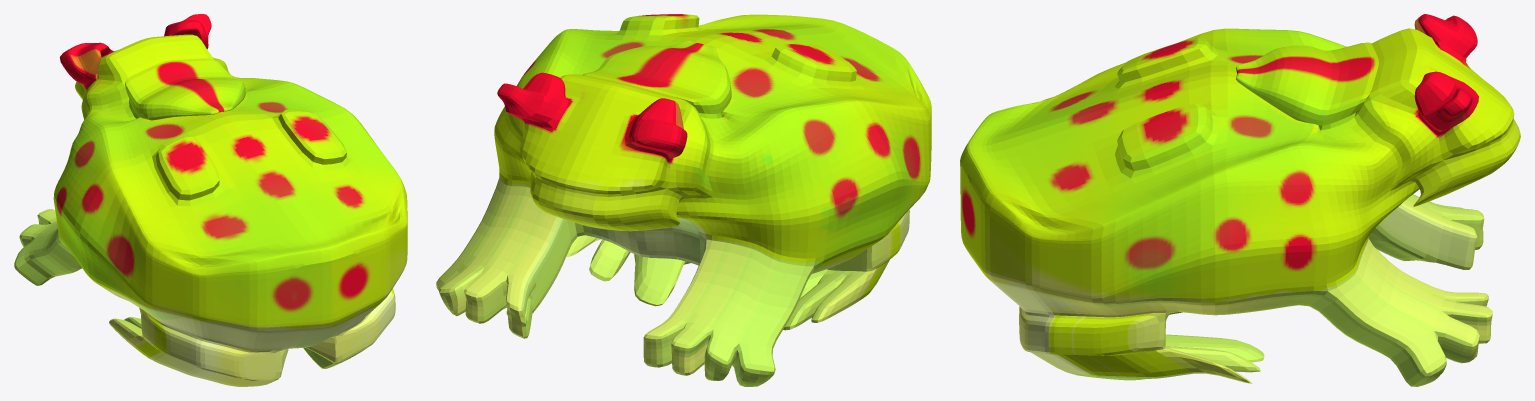
File: Frog1.fbx
The picture shows the model from 3 angles, left to right: view 1: azimuth 30°, elevation 25°; view 2: azimuth 150°, elevation 25°; view 3: azimuth 270°, elevation 25°; orthographic projection. The views are drawn at different scales.
Parts seen in each view (by area): view 1: Frog; view 2: Frog; view 3: Frog.
Part boxes in pixels (x1=…): Frog: x1=14, y1=14, x2=407, y2=386; Frog: x1=436, y1=14, x2=931, y2=386; Frog: x1=960, y1=14, x2=1520, y2=386.
Size of the model in its own units: 11.59 by 9.06 by 15.12.
1 material, 1 textured.
